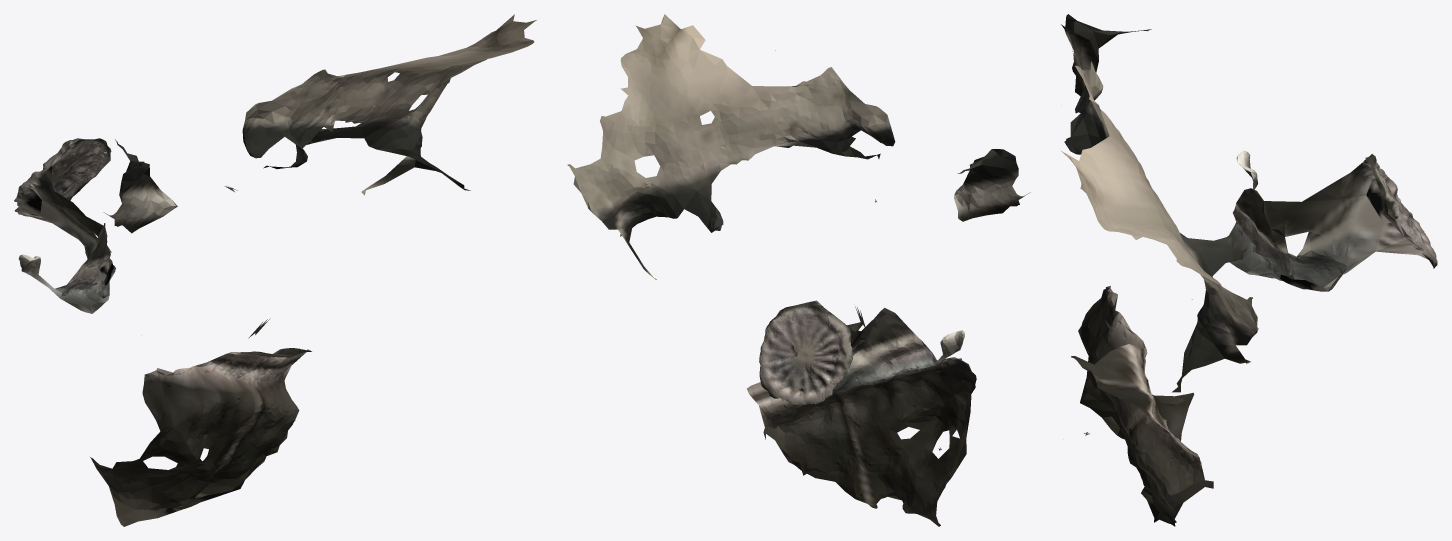
File: texturedMesh.obj
3 views of the same model, side by side, from view 1: azimuth 30°, elevation 25°; view 2: azimuth 150°, elevation 25°; view 3: azimuth 270°, elevation 25° (orthographic). The views are drawn at different scales.
Visible parts, largest first — view 1: TexturedMesh; view 2: TexturedMesh; view 3: TexturedMesh.
Boxes of the visible parts, left/top/right/bottom form: TexturedMesh: left=14, top=14, right=536, bottom=526; TexturedMesh: left=567, top=14, right=1030, bottom=526; TexturedMesh: left=1061, top=14, right=1437, bottom=526.
Size of the model in its own units: 2.79 by 2.71 by 1.82.
1 material, 1 textured.
